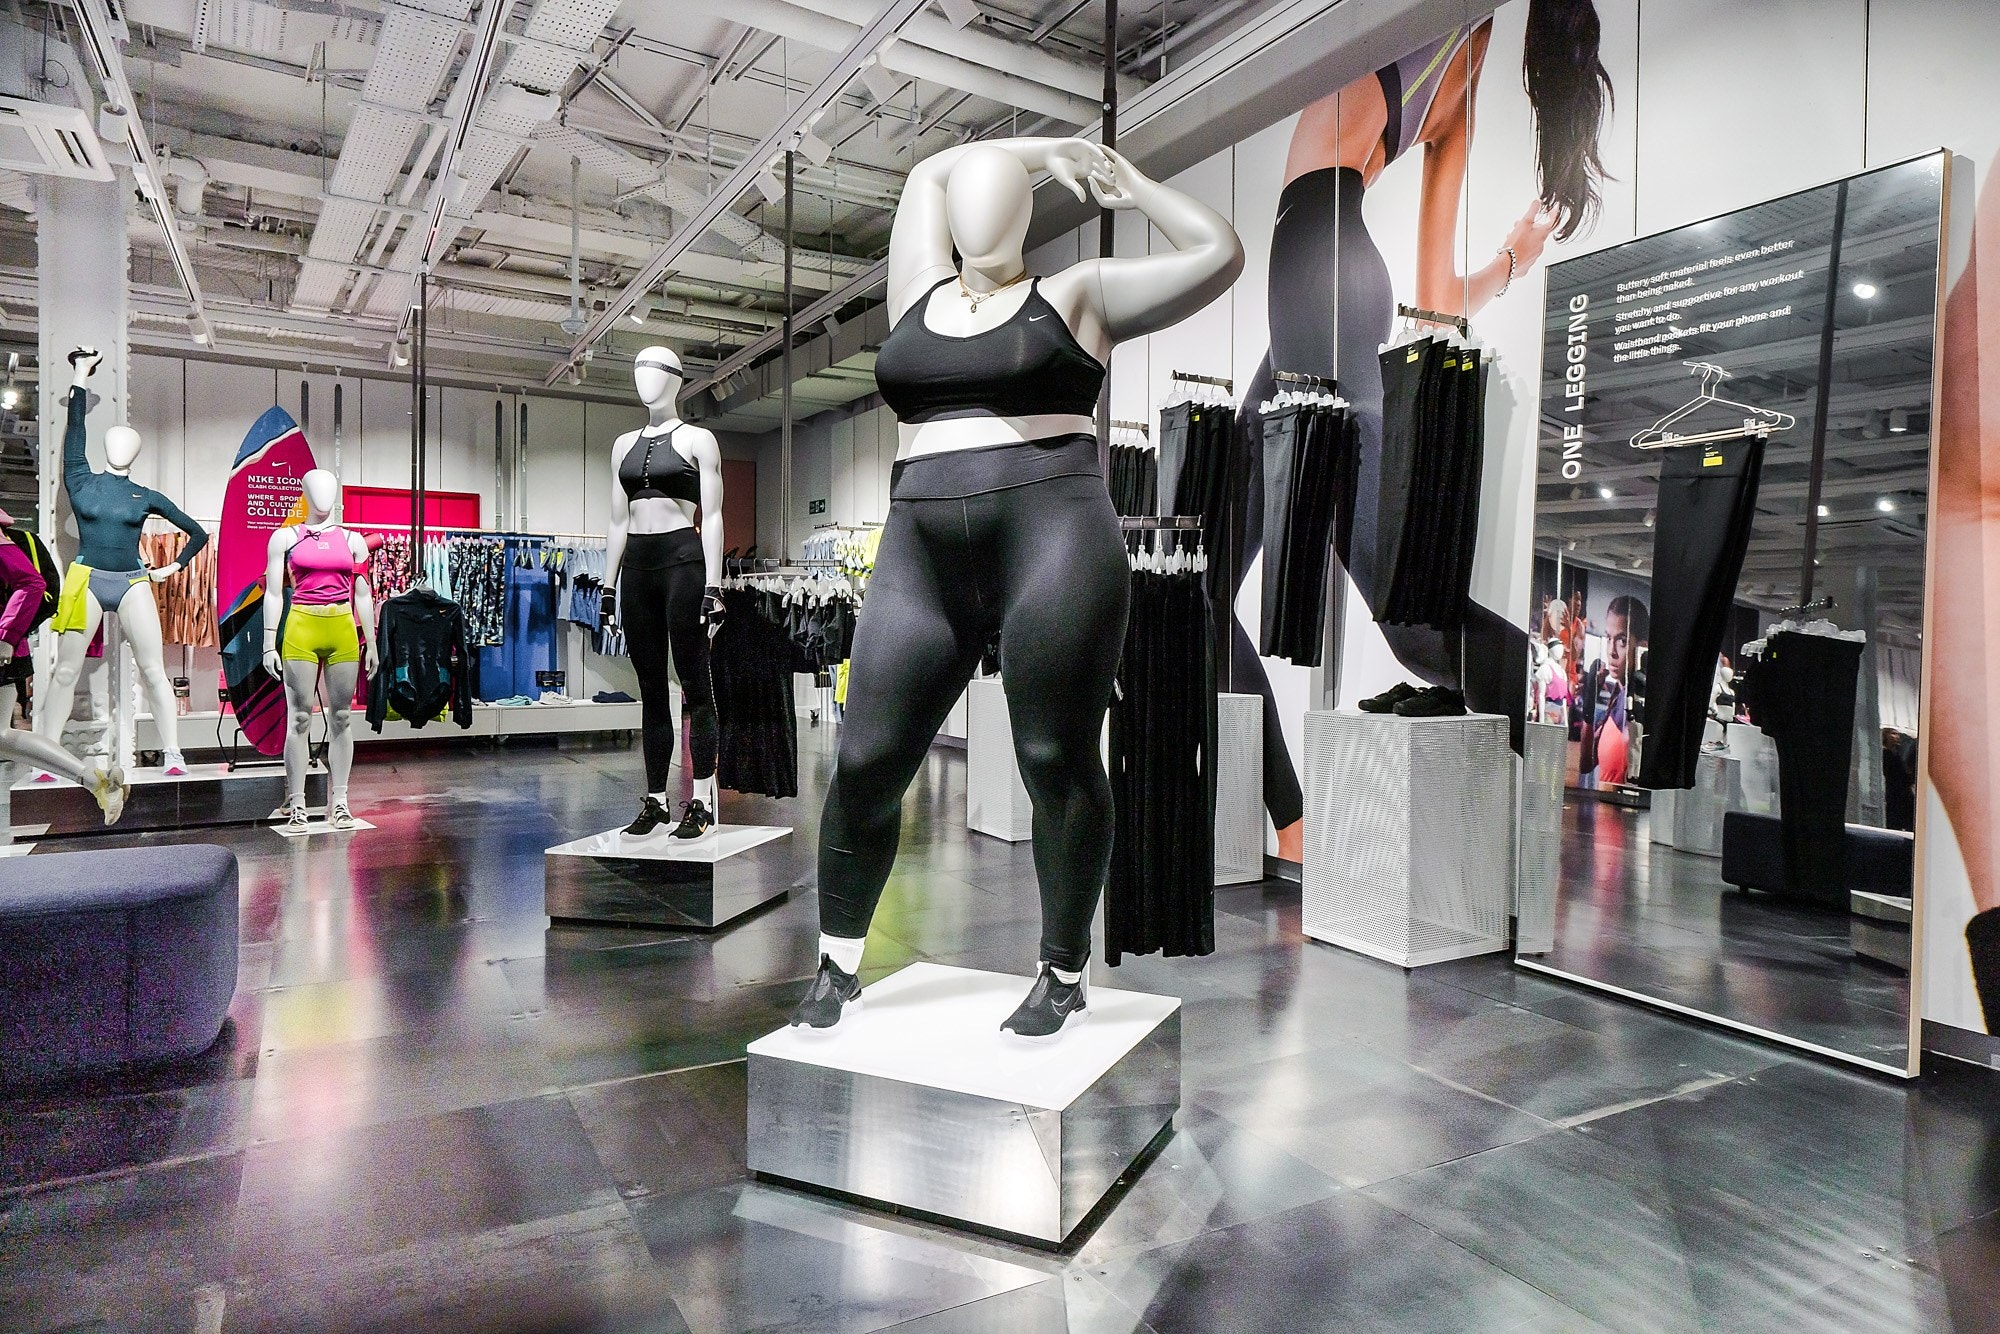person-like: (782, 110, 1261, 1043), (592, 340, 743, 846), (40, 336, 206, 786), (256, 460, 389, 833)
